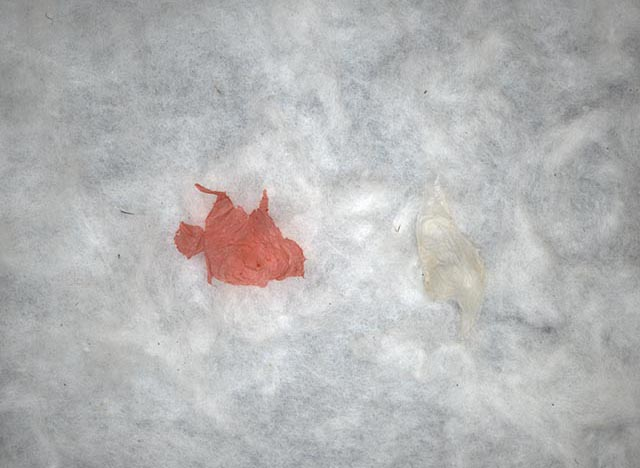plastic film: (172, 182, 307, 287), (416, 185, 484, 329)
